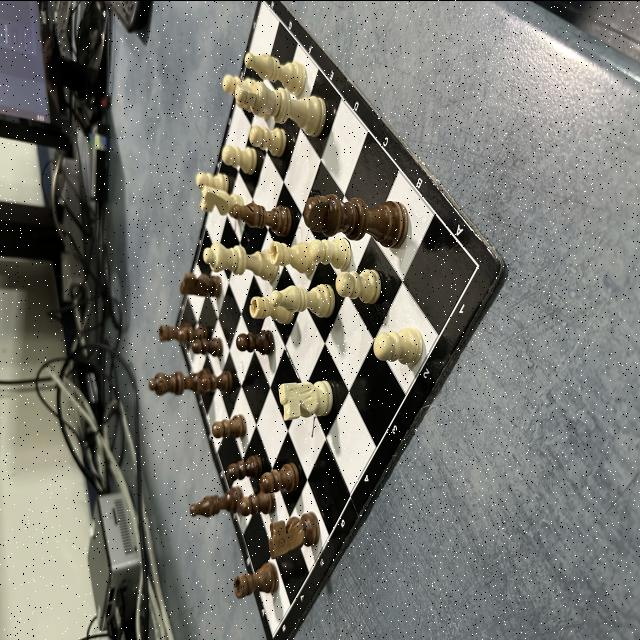Black-Bishop: (231, 198, 291, 234), (189, 484, 243, 518)
Black-King: (303, 194, 409, 248)
Black-Knight: (270, 512, 318, 554), (178, 271, 222, 297)
Black-Pawn: (260, 462, 298, 492), (236, 330, 274, 356), (238, 488, 276, 514), (228, 451, 262, 479), (212, 414, 246, 438), (200, 370, 233, 392), (192, 336, 222, 356), (178, 324, 208, 342)
Black-Queen: (148, 370, 212, 394)
Black-Rook: (233, 563, 280, 598), (157, 322, 190, 342)
White-Bishop: (243, 50, 306, 94), (270, 284, 334, 316)
White-King: (236, 82, 324, 137)
White-Knight: (278, 380, 333, 418), (202, 185, 244, 217)
White-Pawn: (336, 267, 382, 304), (374, 329, 422, 363), (248, 125, 286, 154), (309, 238, 349, 264), (220, 145, 258, 172), (222, 73, 256, 92), (195, 172, 228, 190)
White-Queen: (202, 242, 278, 280)
White-Rook: (268, 240, 314, 274), (250, 294, 292, 322)
